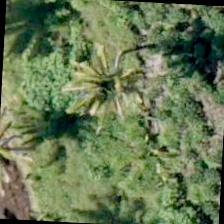Kelapa_Sawit: (69, 36, 164, 130)
